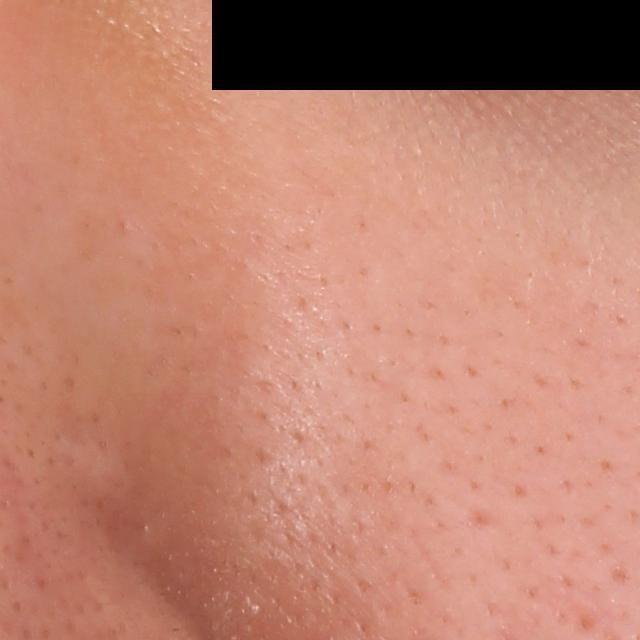hypertrophic_scar: (43, 429, 148, 501)
